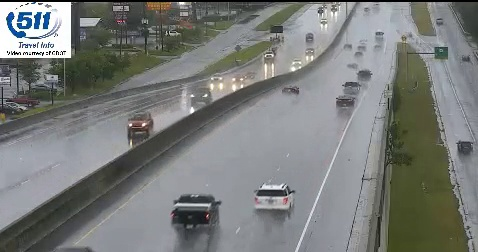car: (173, 194, 219, 230), (254, 184, 294, 212), (335, 95, 354, 109), (343, 81, 361, 94), (281, 85, 301, 96)
